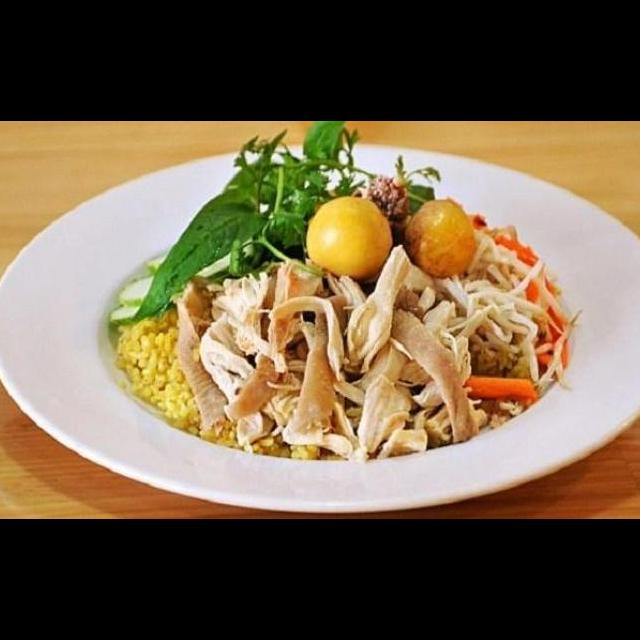com: (106, 304, 206, 440)
com ga: (0, 171, 640, 518)
rau ram: (126, 122, 438, 326)
thit ga: (170, 239, 486, 465)
trung: (302, 192, 396, 280), (398, 194, 478, 282)
